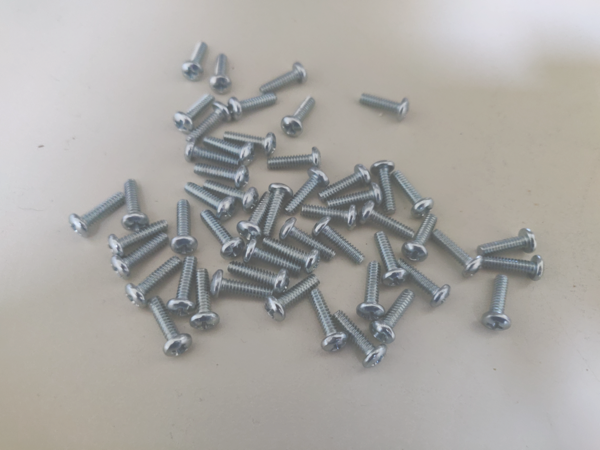shortscrew: (332, 311, 388, 370), (125, 256, 183, 308), (397, 259, 452, 308), (265, 274, 321, 322), (279, 217, 337, 263), (431, 229, 484, 279), (149, 297, 193, 357), (111, 233, 170, 277), (69, 192, 125, 238), (309, 288, 349, 352), (312, 217, 366, 264), (370, 290, 415, 344), (242, 238, 304, 277), (358, 201, 415, 241), (200, 210, 244, 261), (109, 219, 168, 257), (358, 201, 415, 240), (262, 237, 321, 273), (285, 168, 330, 215), (228, 262, 290, 296), (391, 171, 435, 218), (183, 183, 237, 221), (319, 164, 371, 202), (210, 270, 274, 300), (375, 231, 409, 287), (186, 102, 231, 144), (190, 269, 220, 331), (402, 213, 439, 263), (237, 191, 273, 242), (478, 228, 537, 258), (203, 180, 259, 211), (482, 254, 545, 281), (357, 262, 386, 320), (174, 93, 215, 134), (264, 184, 295, 238), (184, 140, 241, 169), (483, 276, 512, 332), (359, 92, 410, 123), (300, 203, 358, 230), (171, 199, 198, 256), (260, 63, 306, 95), (281, 97, 316, 138), (194, 163, 249, 189), (122, 180, 149, 232), (223, 131, 277, 157), (371, 160, 396, 214), (229, 93, 277, 121), (327, 184, 383, 208), (268, 147, 322, 171), (182, 42, 208, 82), (210, 54, 232, 95)
